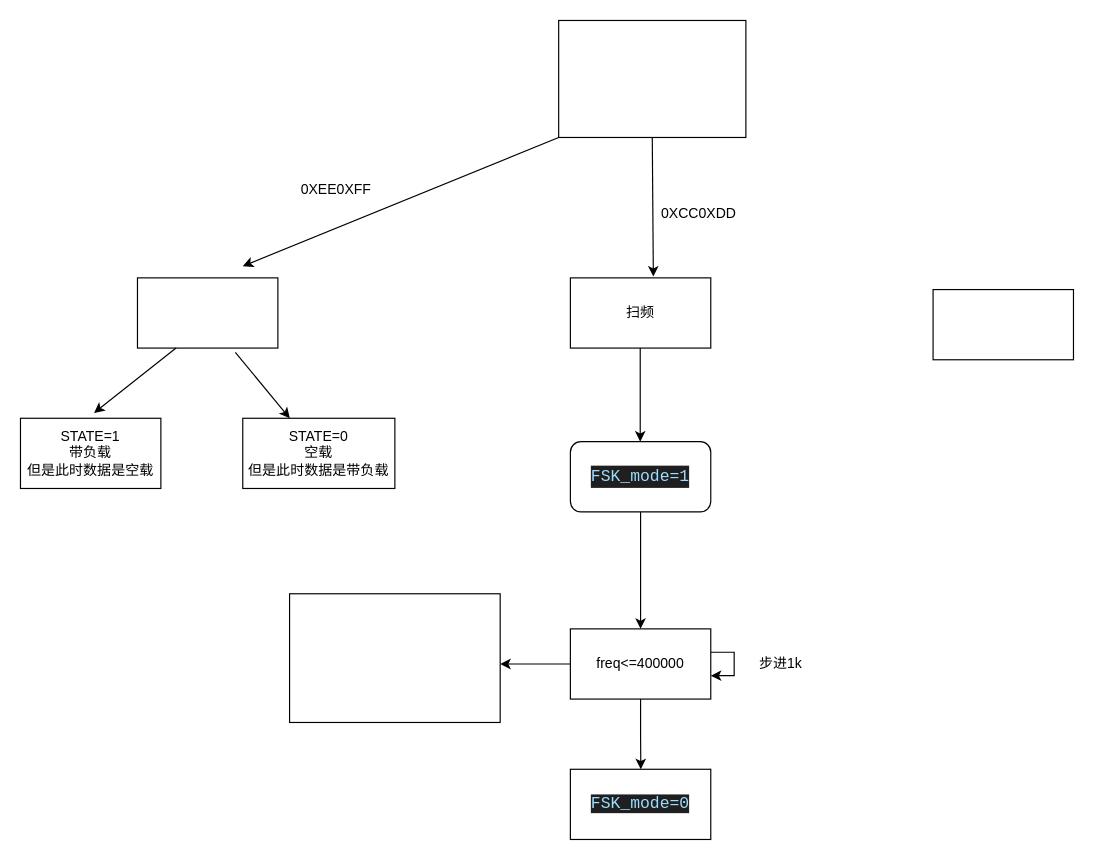
This 1094x860 diagram has some shape labels left out. Each missing label, with the centre of its shape:
"故障判断" goes at point 1002,324.
"普通采样" goes at point 207,312.
"模式" goes at point 652,78.
